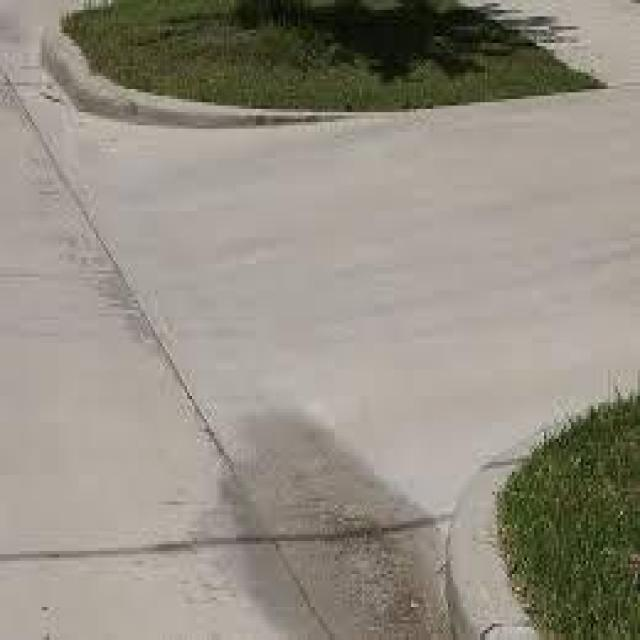curb: (42, 39, 259, 124), (438, 460, 534, 634)
